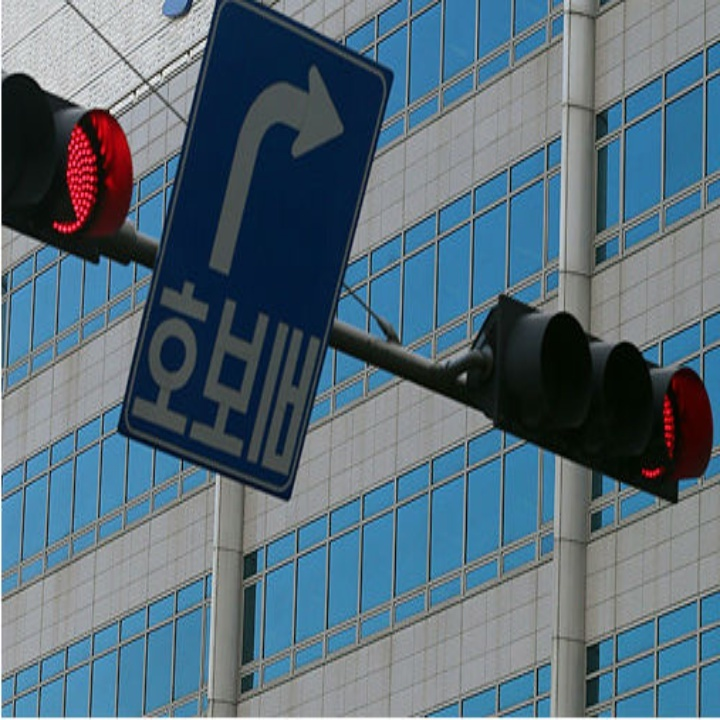right: (204, 43, 355, 281)
